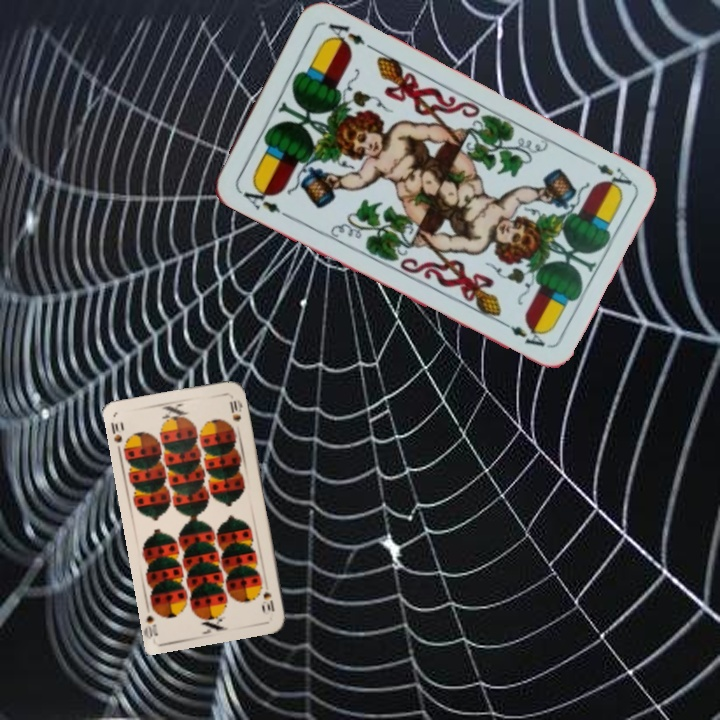EA: (579, 152, 635, 193), (235, 181, 290, 220)
S10: (259, 587, 277, 614), (107, 418, 125, 445)
